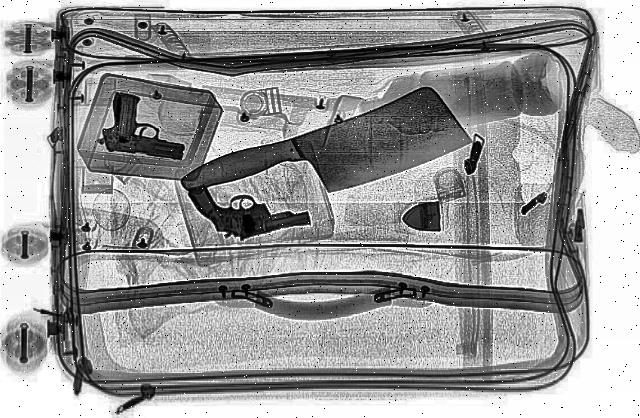Gun: (184, 171, 320, 247), (86, 94, 208, 166)
Knife: (170, 84, 496, 248)
